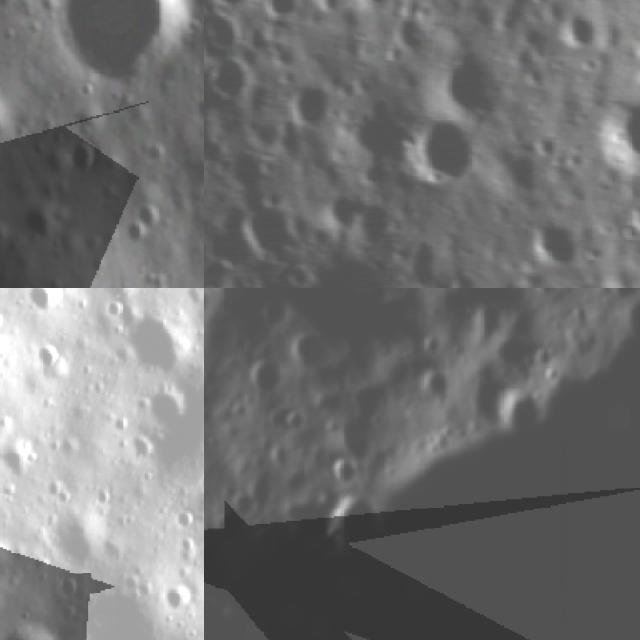crater: (56, 0, 202, 88), (401, 107, 484, 199), (116, 304, 194, 378), (442, 54, 514, 124), (241, 196, 307, 264), (77, 586, 158, 640), (50, 511, 114, 576), (591, 94, 640, 172), (532, 215, 584, 277), (324, 496, 376, 555), (287, 78, 335, 138), (497, 147, 543, 203), (315, 184, 362, 233), (552, 10, 602, 54), (120, 199, 166, 245), (384, 10, 429, 57), (494, 391, 540, 435), (204, 7, 242, 58), (350, 204, 392, 250), (147, 385, 189, 431), (209, 60, 251, 103), (0, 442, 39, 485), (63, 131, 98, 176), (223, 150, 265, 187), (161, 583, 200, 621), (253, 355, 282, 402), (211, 0, 265, 25), (18, 288, 60, 316), (258, 0, 309, 23), (0, 88, 20, 145), (234, 482, 268, 515), (0, 625, 72, 640), (204, 116, 222, 170), (204, 66, 224, 114), (284, 408, 316, 438), (278, 264, 315, 288), (624, 196, 640, 245), (170, 509, 200, 535), (420, 372, 448, 399), (328, 462, 363, 482), (418, 334, 439, 352), (204, 381, 213, 420), (354, 0, 391, 9)
